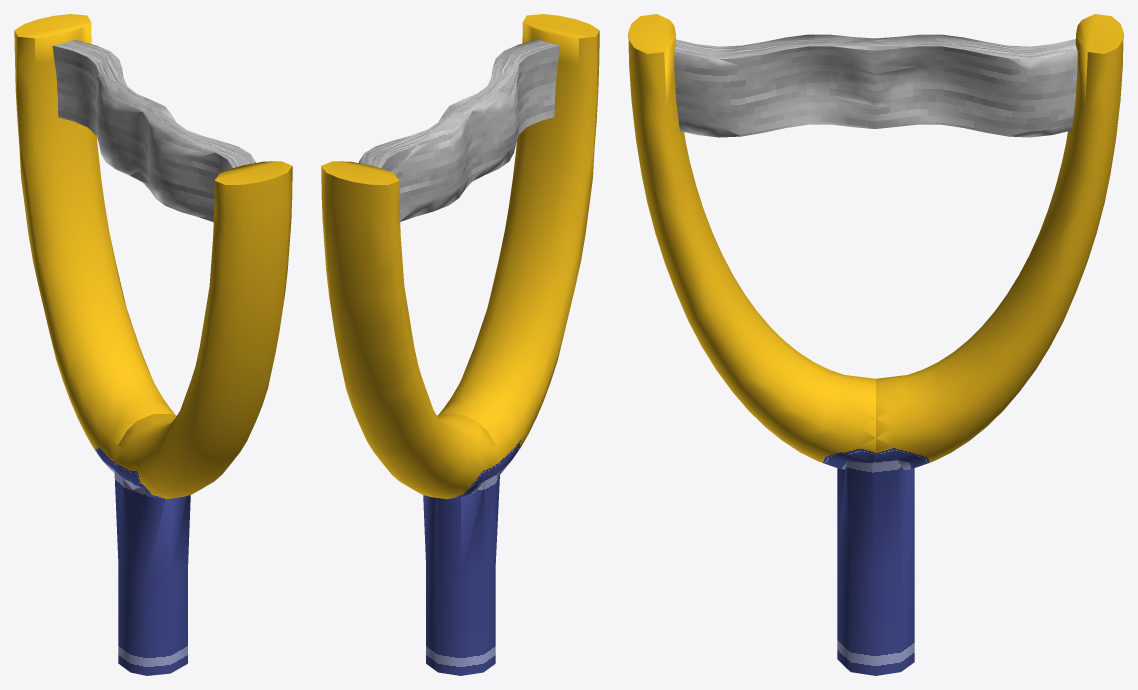
File: slingshot.obj
3 views of the same model, side by side, from view 1: azimuth 30°, elevation 25°; view 2: azimuth 150°, elevation 25°; view 3: azimuth 270°, elevation 25° (orthographic). The views are drawn at different scales.
Visible parts, largest first — view 1: Handle42; view 2: Handle42; view 3: Handle42.
Boxes of the visible parts, bbox=[...] form: Handle42: bbox=[14, 14, 292, 675]; Handle42: bbox=[321, 14, 599, 675]; Handle42: bbox=[628, 14, 1123, 675].
Bounding box in the file's own units: 0.3052 × 2.12 × 1.52.
Materials: 1 (1 with a texture image).
